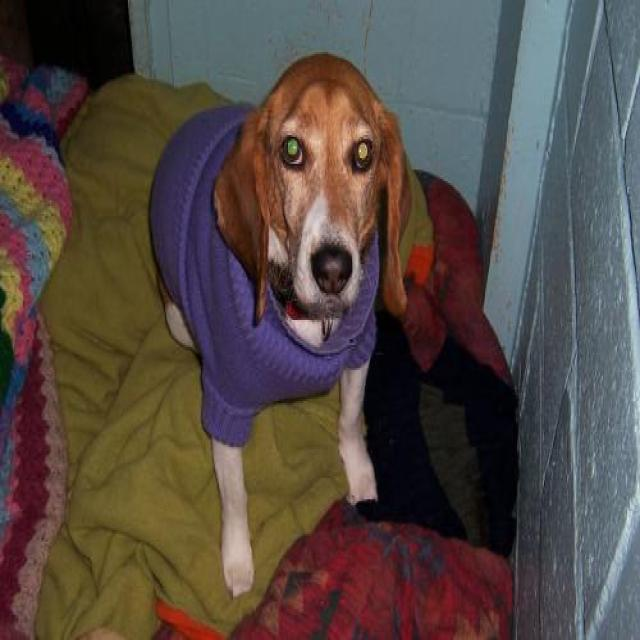Dogs: (151, 50, 412, 598)
